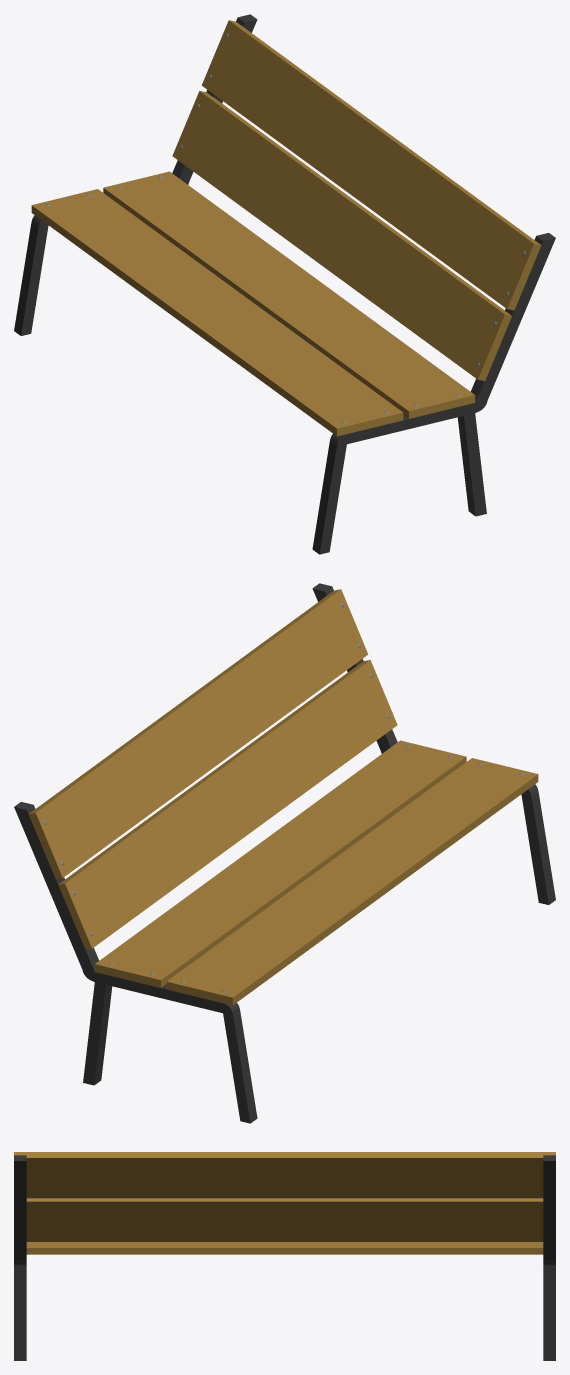
Rendered from Skameika.fbx.
3 renders of one model, top to bottom at view 1: azimuth 30°, elevation 25°; view 2: azimuth 150°, elevation 25°; view 3: azimuth 270°, elevation 25°, orthographic. The views are drawn at different scales.
Parts seen in each view (by area): view 1: Cube.006; view 2: Cube.006; view 3: Cube.006.
Part boxes in pixels (x1,y1,x2,y2): Cube.006: [14, 14, 555, 554]; Cube.006: [14, 583, 555, 1123]; Cube.006: [14, 1152, 555, 1360].
Bounding box in the file's own units: 256 × 268 × 573.
